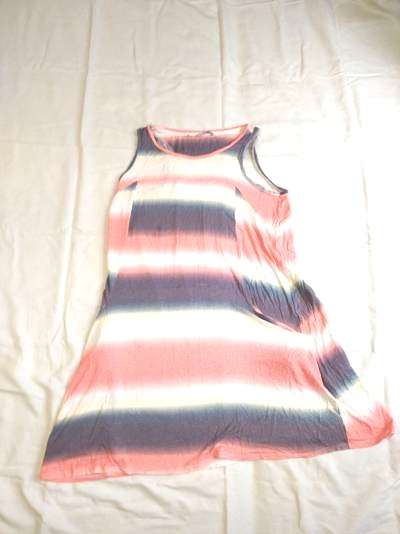Dress: (22, 76, 382, 507)
